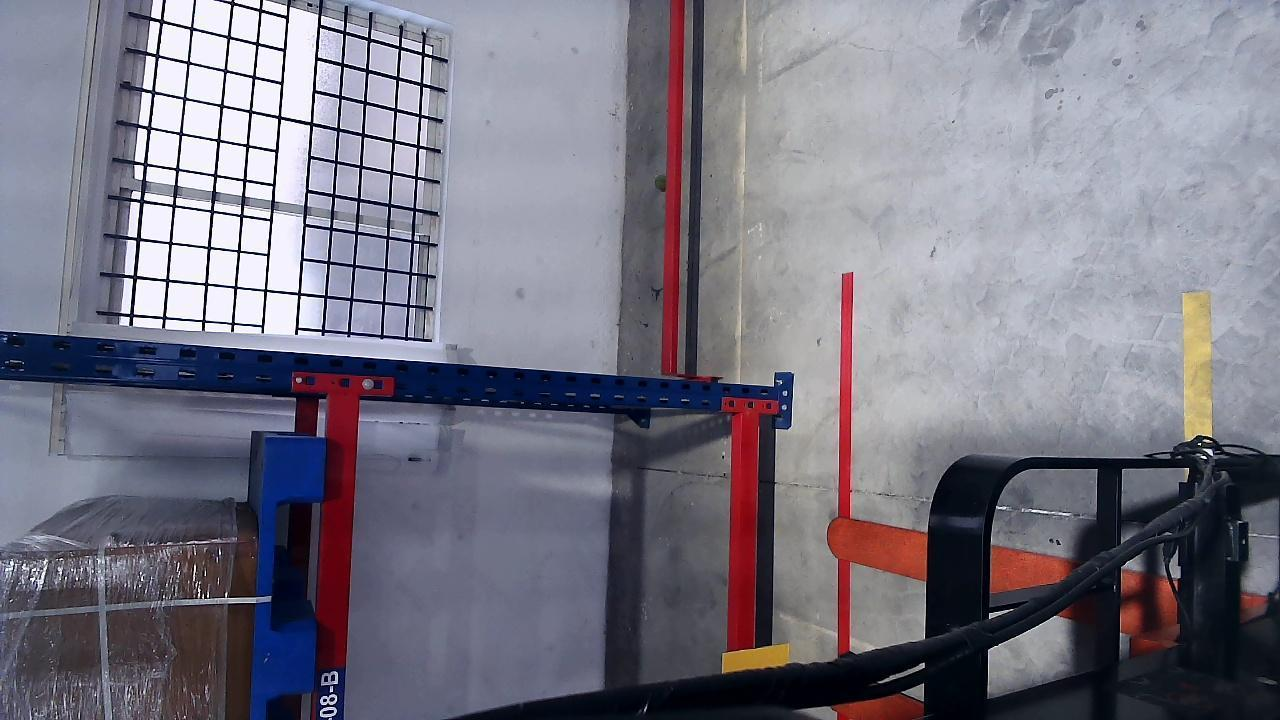red_line: (835, 270, 854, 655)
yellow_line: (1182, 291, 1214, 439)
